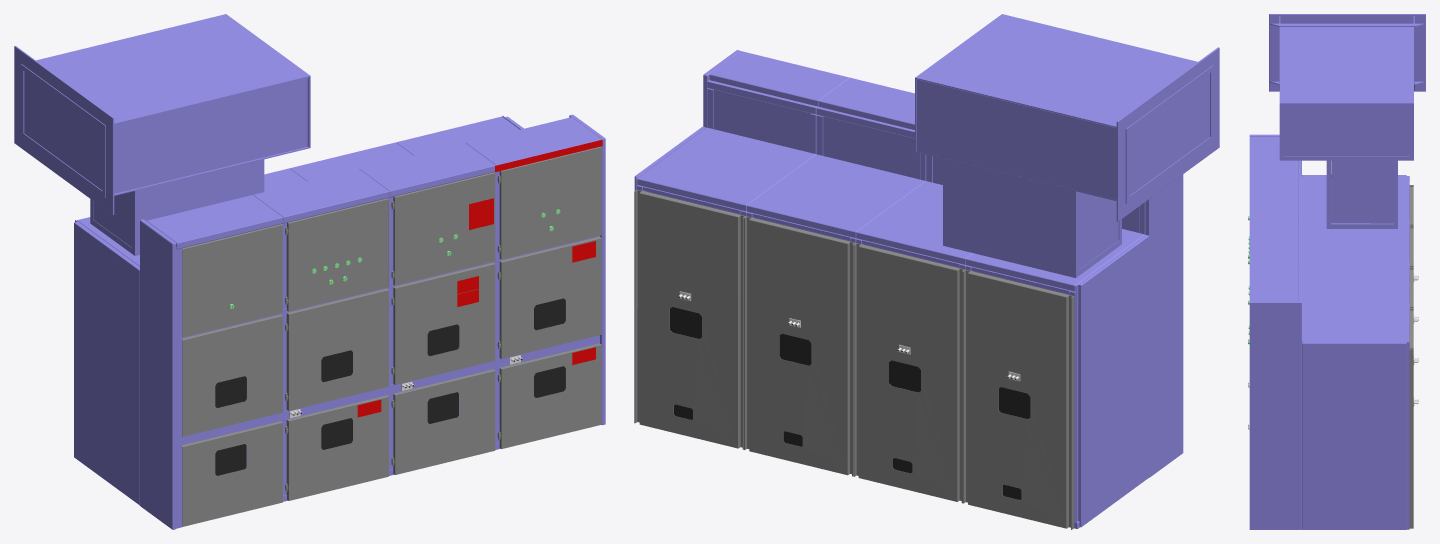
File: KGG_10KV03.FBX
3 renders of one model, left to right at view 1: azimuth 30°, elevation 25°; view 2: azimuth 150°, elevation 25°; view 3: azimuth 270°, elevation 25°, orthographic. The views are drawn at different scales.
Parts seen in each view (by area): view 1: jixiang, men, boli, biaoqian; view 2: jixiang, men, boli; view 3: jixiang, men.
Part boxes in pixels (bbox=[...]): jixiang: bbox=[14, 14, 605, 529]; men: bbox=[182, 146, 601, 526]; boli: bbox=[215, 298, 565, 475]; biaoqian: bbox=[357, 139, 602, 417]; jixiang: bbox=[634, 14, 1219, 528]; men: bbox=[634, 189, 1074, 529]; boli: bbox=[670, 296, 1030, 499]; jixiang: bbox=[1249, 14, 1425, 529]; men: bbox=[1409, 185, 1413, 528].
Size of the model in its own units: 37.42 by 30.76 by 15.02.
